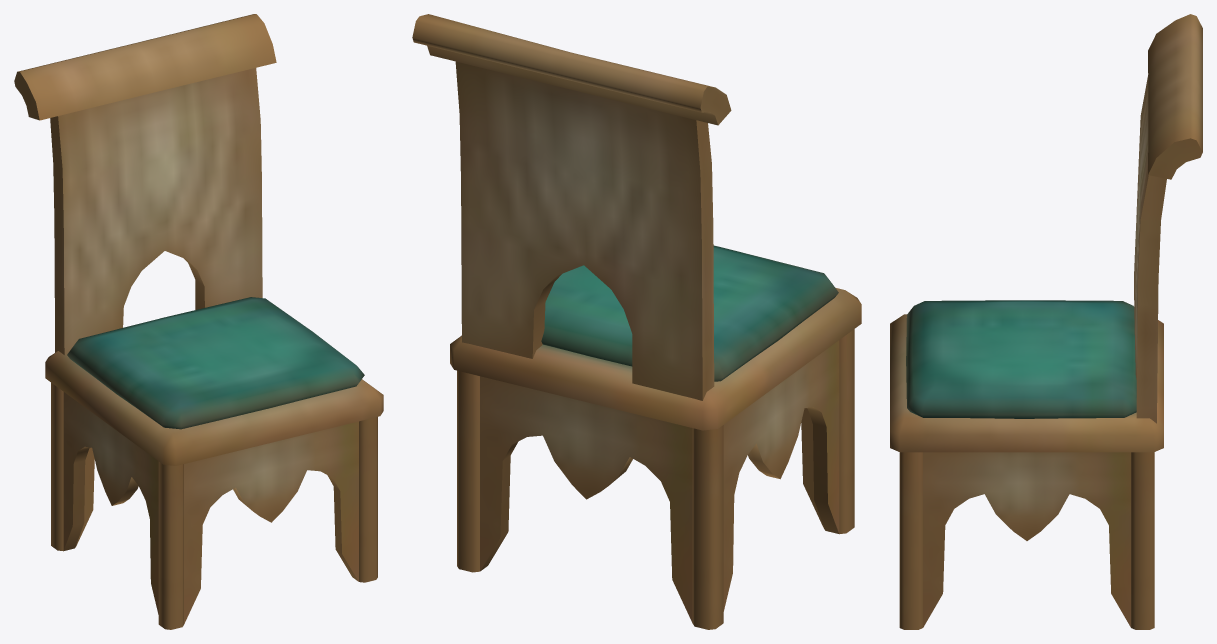
File: comfort5_t4_chair.glb
3 renders of one model, left to right at view 1: azimuth 30°, elevation 25°; view 2: azimuth 150°, elevation 25°; view 3: azimuth 270°, elevation 25°, orthographic. The views are drawn at different scales.
Visible parts, largest first — view 1: env_desert_props_chair_01; view 2: env_desert_props_chair_01; view 3: env_desert_props_chair_01.
Boxes of the visible parts, bbox=[...] form: env_desert_props_chair_01: bbox=[14, 14, 383, 629]; env_desert_props_chair_01: bbox=[412, 14, 861, 629]; env_desert_props_chair_01: bbox=[890, 14, 1202, 629].
Size of the model in its own units: 0.6237 by 1.16 by 0.6626.
Materials: 1 (1 with a texture image).
